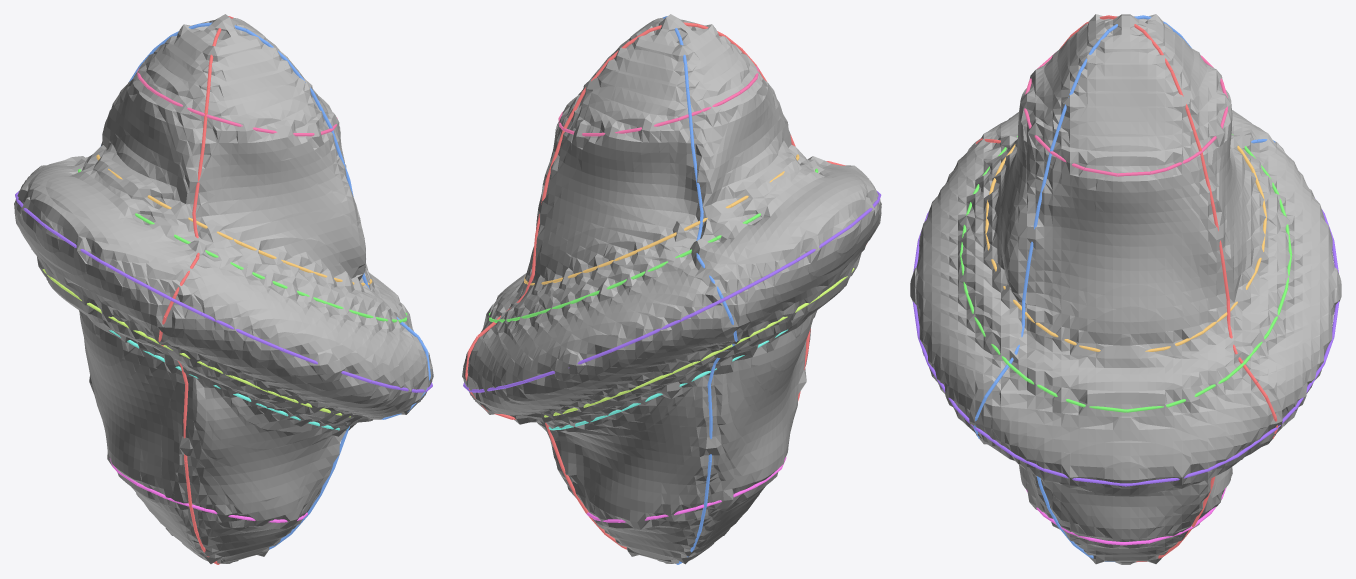
File: flowrep_ellipsetorus.gltf
3 views of the same model, side by side, from view 1: azimuth 30°, elevation 25°; view 2: azimuth 150°, elevation 25°; view 3: azimuth 270°, elevation 25° (orthographic).
Bounding box in the file's own units: 0.4979 × 0.722 × 0.5137.
